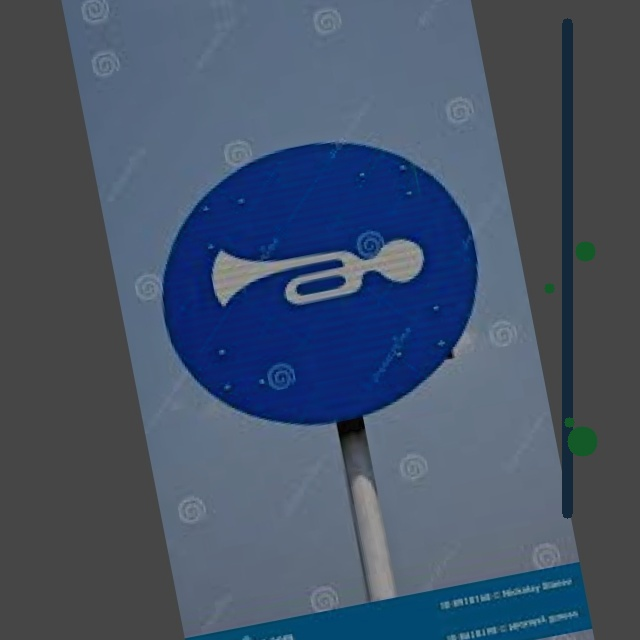Compulsory_Sound_Horn: (137, 113, 502, 443)
